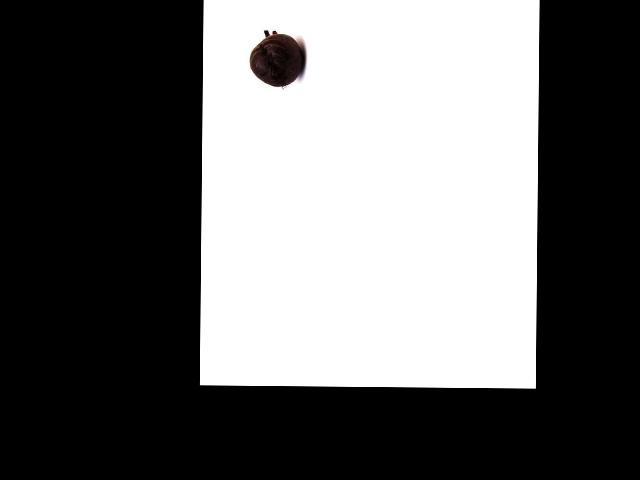beet: (249, 31, 304, 87)
